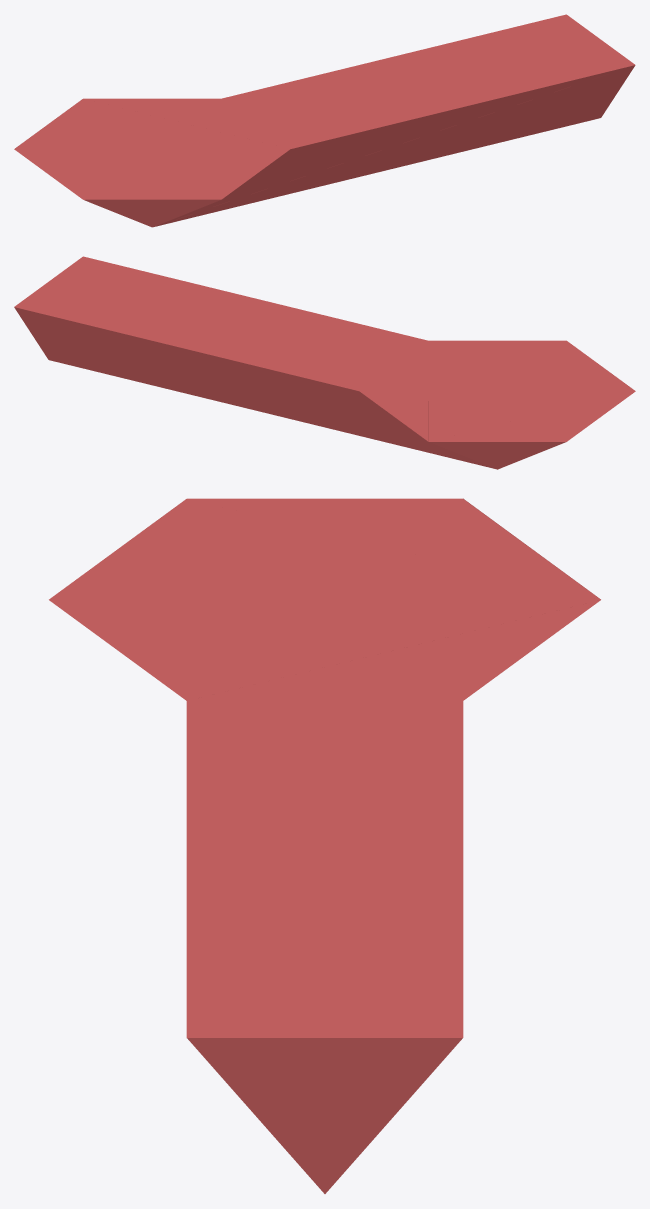
The model's file is bk_rotebar.glb.
3 views of the same model, one above another, from view 1: azimuth 30°, elevation 25°; view 2: azimuth 150°, elevation 25°; view 3: azimuth 270°, elevation 25° (orthographic). The views are drawn at different scales.
Visible parts, largest first — view 1: bk_rotebar_col; view 2: bk_rotebar_col; view 3: bk_rotebar_col.
Part boxes in pixels (<box>): bk_rotebar_col: <box>14,14,635,227</box>; bk_rotebar_col: <box>14,256,635,469</box>; bk_rotebar_col: <box>49,498,600,1193</box>.
Size of the model in its own units: 9.24 by 1.25 by 4.
